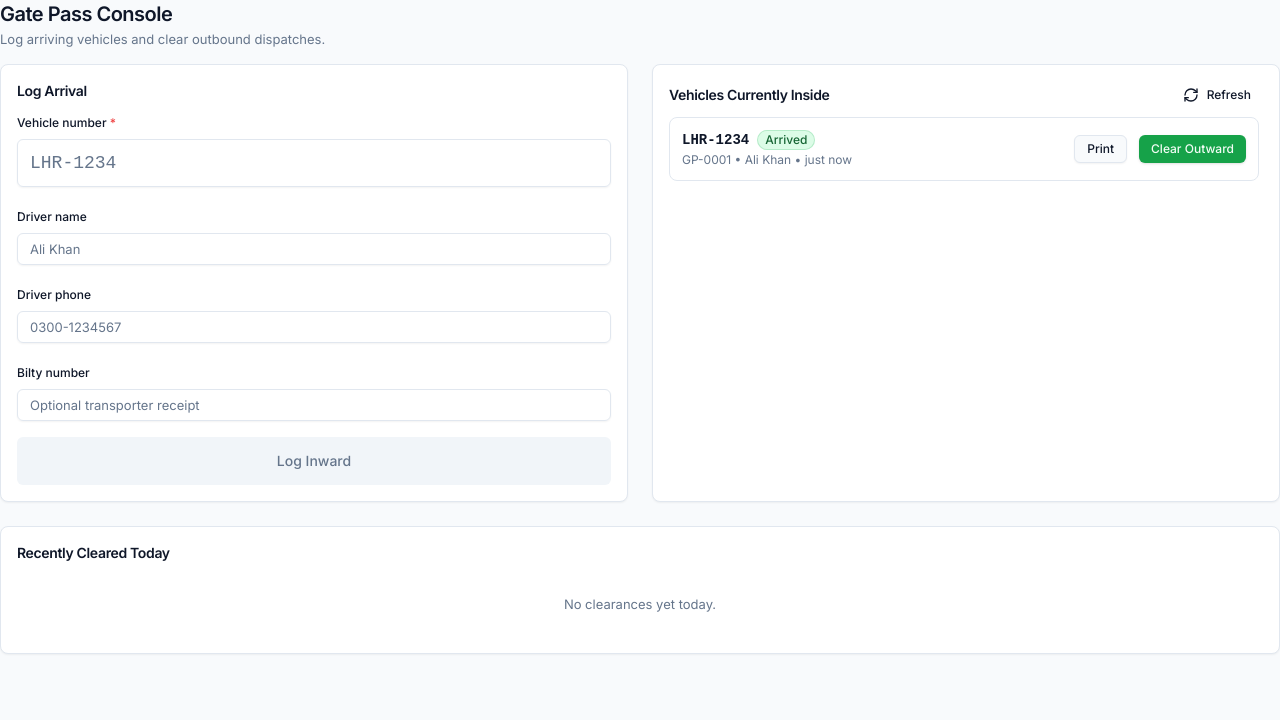
Test: GatePassConsolePage — clear outward › after a refused release, Cancel closes the dialog
The width and height of the screenshot is (1280, 720).
Click the button "Clear Outward": [1193, 149] box [1139, 135, 1246, 163]
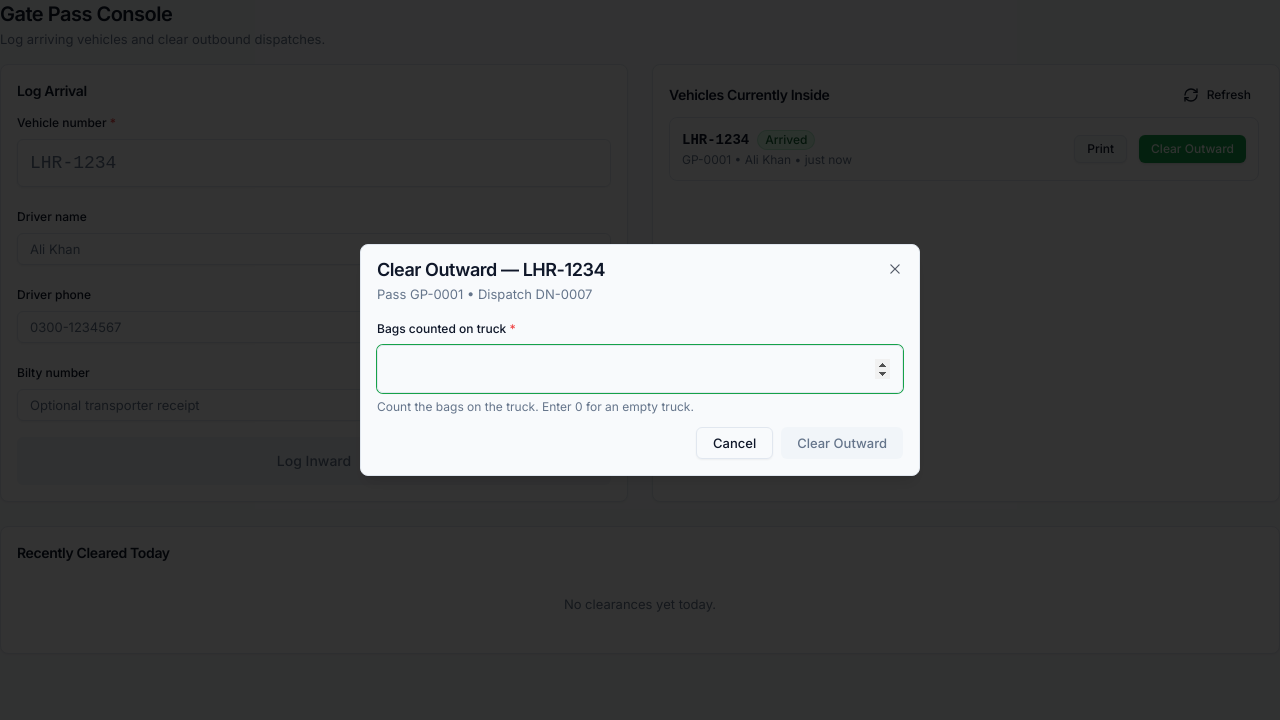
In the number field labelled "Bags counted on truck *": [640, 369] box [377, 345, 903, 393], type "20"
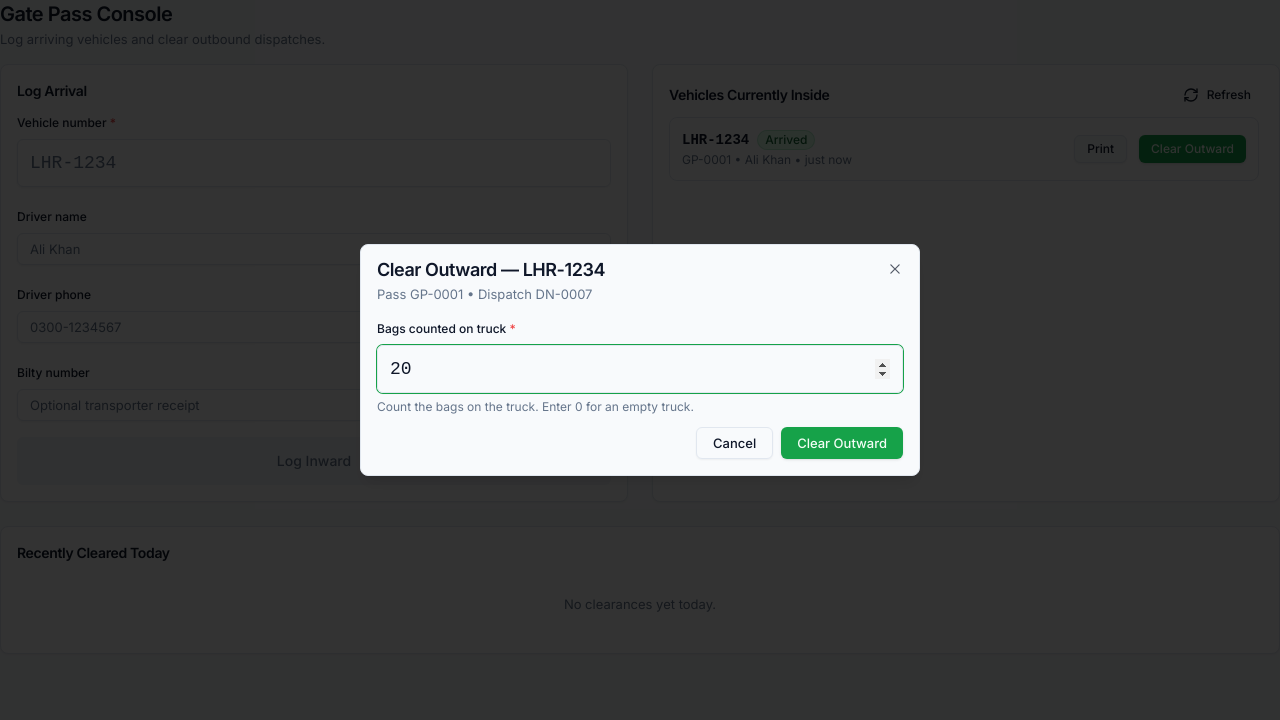
Click the button "Clear Outward": [842, 443] box [781, 427, 903, 459]
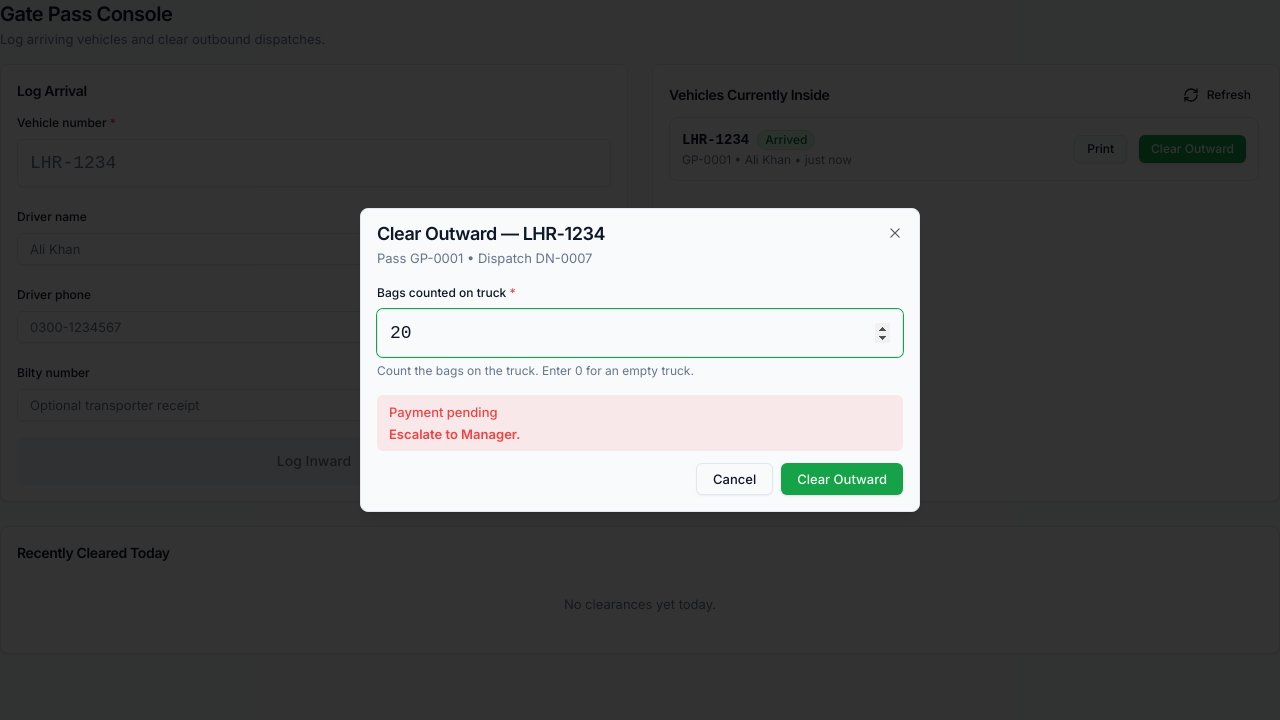
expect the text "Payment pending" is shown: met, box [389, 404, 498, 420]
Click the button "Cancel": [735, 479] box [696, 463, 773, 495]
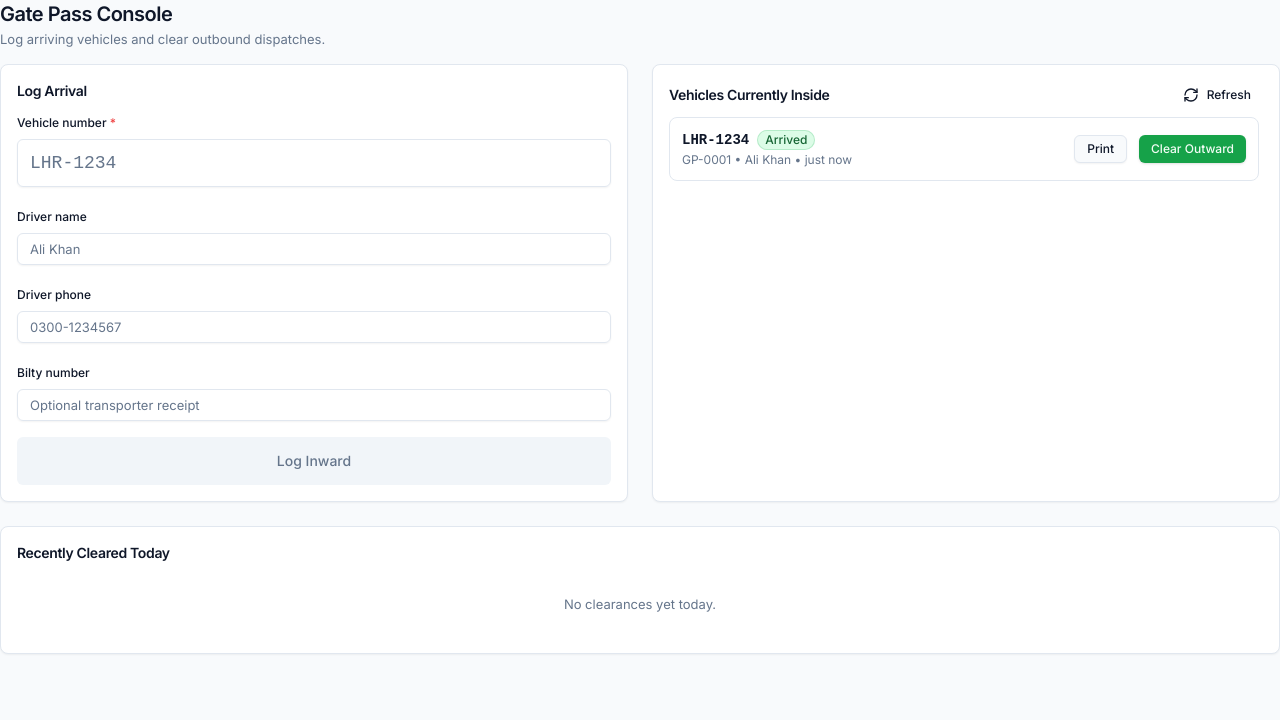
expect the dialog is gone: met
